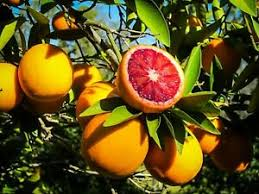orange: (84, 108, 149, 179), (144, 122, 206, 188), (17, 44, 74, 105)
